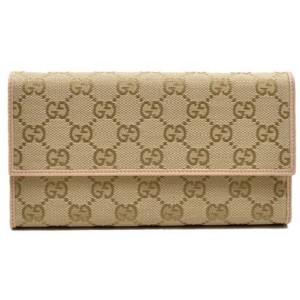monedero: (6, 70, 297, 232)
